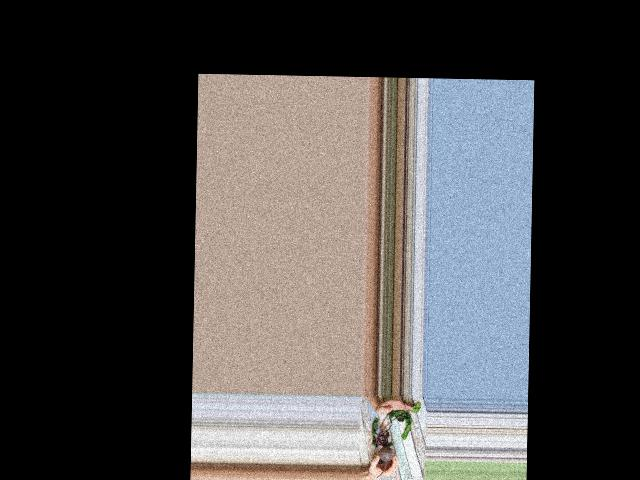beet: (371, 401, 421, 478)
